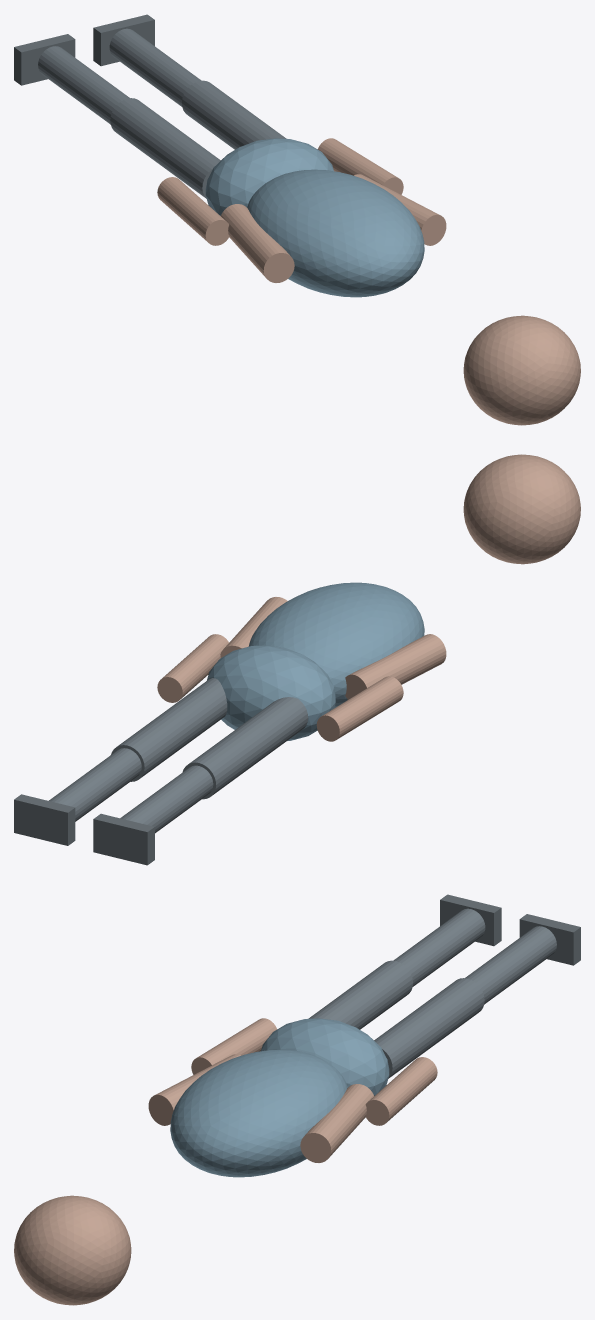
Rendered from adolescent-high.glb.
3 views of the same model, one above another, from view 1: azimuth 30°, elevation 25°; view 2: azimuth 150°, elevation 25°; view 3: azimuth 330°, elevation 25° (orthographic).
Parts seen in each view (by area): view 1: torso, head, pelvis, left_thigh, right_thigh, left_lower_leg, right_lower_leg, left_upper_arm, left_forearm, right_forearm, left_foot, right_foot (+1 smaller); view 2: torso, head, pelvis, left_thigh, right_thigh, right_lower_leg, left_upper_arm, left_lower_leg, left_forearm, right_foot, left_foot, right_forearm (+1 smaller); view 3: torso, head, pelvis, right_thigh, left_thigh, right_lower_leg, left_lower_leg, right_upper_arm, right_forearm, left_forearm, right_foot, left_foot (+1 smaller).
Part boxes in pixels (x1=…): torso: x1=247, y1=169, x2=424, y2=297; head: x1=463, y1=315, x2=580, y2=425; pelvis: x1=205, y1=138, x2=333, y2=215; left_thigh: x1=110, y1=98, x2=220, y2=198; right_thigh: x1=182, y1=80, x2=285, y2=149; left_lower_leg: x1=38, y1=46, x2=129, y2=124; right_lower_leg: x1=109, y1=28, x2=201, y2=106; left_upper_arm: x1=221, y1=204, x2=294, y2=282; left_forearm: x1=157, y1=177, x2=229, y2=245; right_forearm: x1=317, y1=138, x2=403, y2=194; left_foot: x1=14, y1=34, x2=75, y2=85; right_foot: x1=93, y1=14, x2=154, y2=66; torso: x1=248, y1=582, x2=424, y2=708; head: x1=463, y1=454, x2=580, y2=564; pelvis: x1=207, y1=645, x2=335, y2=740; left_thigh: x1=182, y1=697, x2=308, y2=799; right_thigh: x1=111, y1=678, x2=227, y2=781; right_lower_leg: x1=49, y1=748, x2=141, y2=821; left_upper_arm: x1=345, y1=634, x2=446, y2=699; left_lower_leg: x1=120, y1=765, x2=213, y2=833; left_forearm: x1=316, y1=676, x2=403, y2=741; right_foot: x1=14, y1=794, x2=75, y2=845; left_foot: x1=93, y1=813, x2=154, y2=865; right_forearm: x1=157, y1=634, x2=228, y2=702; torso: x1=170, y1=1049, x2=347, y2=1177; head: x1=14, y1=1195, x2=131, y2=1305; pelvis: x1=261, y1=1018, x2=389, y2=1095; right_thigh: x1=374, y1=978, x2=484, y2=1078; left_thigh: x1=309, y1=960, x2=412, y2=1029; right_lower_leg: x1=465, y1=926, x2=556, y2=1004; left_lower_leg: x1=393, y1=908, x2=485, y2=986; right_upper_arm: x1=300, y1=1084, x2=373, y2=1162; right_forearm: x1=365, y1=1057, x2=437, y2=1125; left_forearm: x1=191, y1=1018, x2=277, y2=1074; right_foot: x1=519, y1=914, x2=580, y2=965; left_foot: x1=440, y1=894, x2=501, y2=946.
Bounding box in the file's own units: 1.25 × 0.5888 × 5.13.
